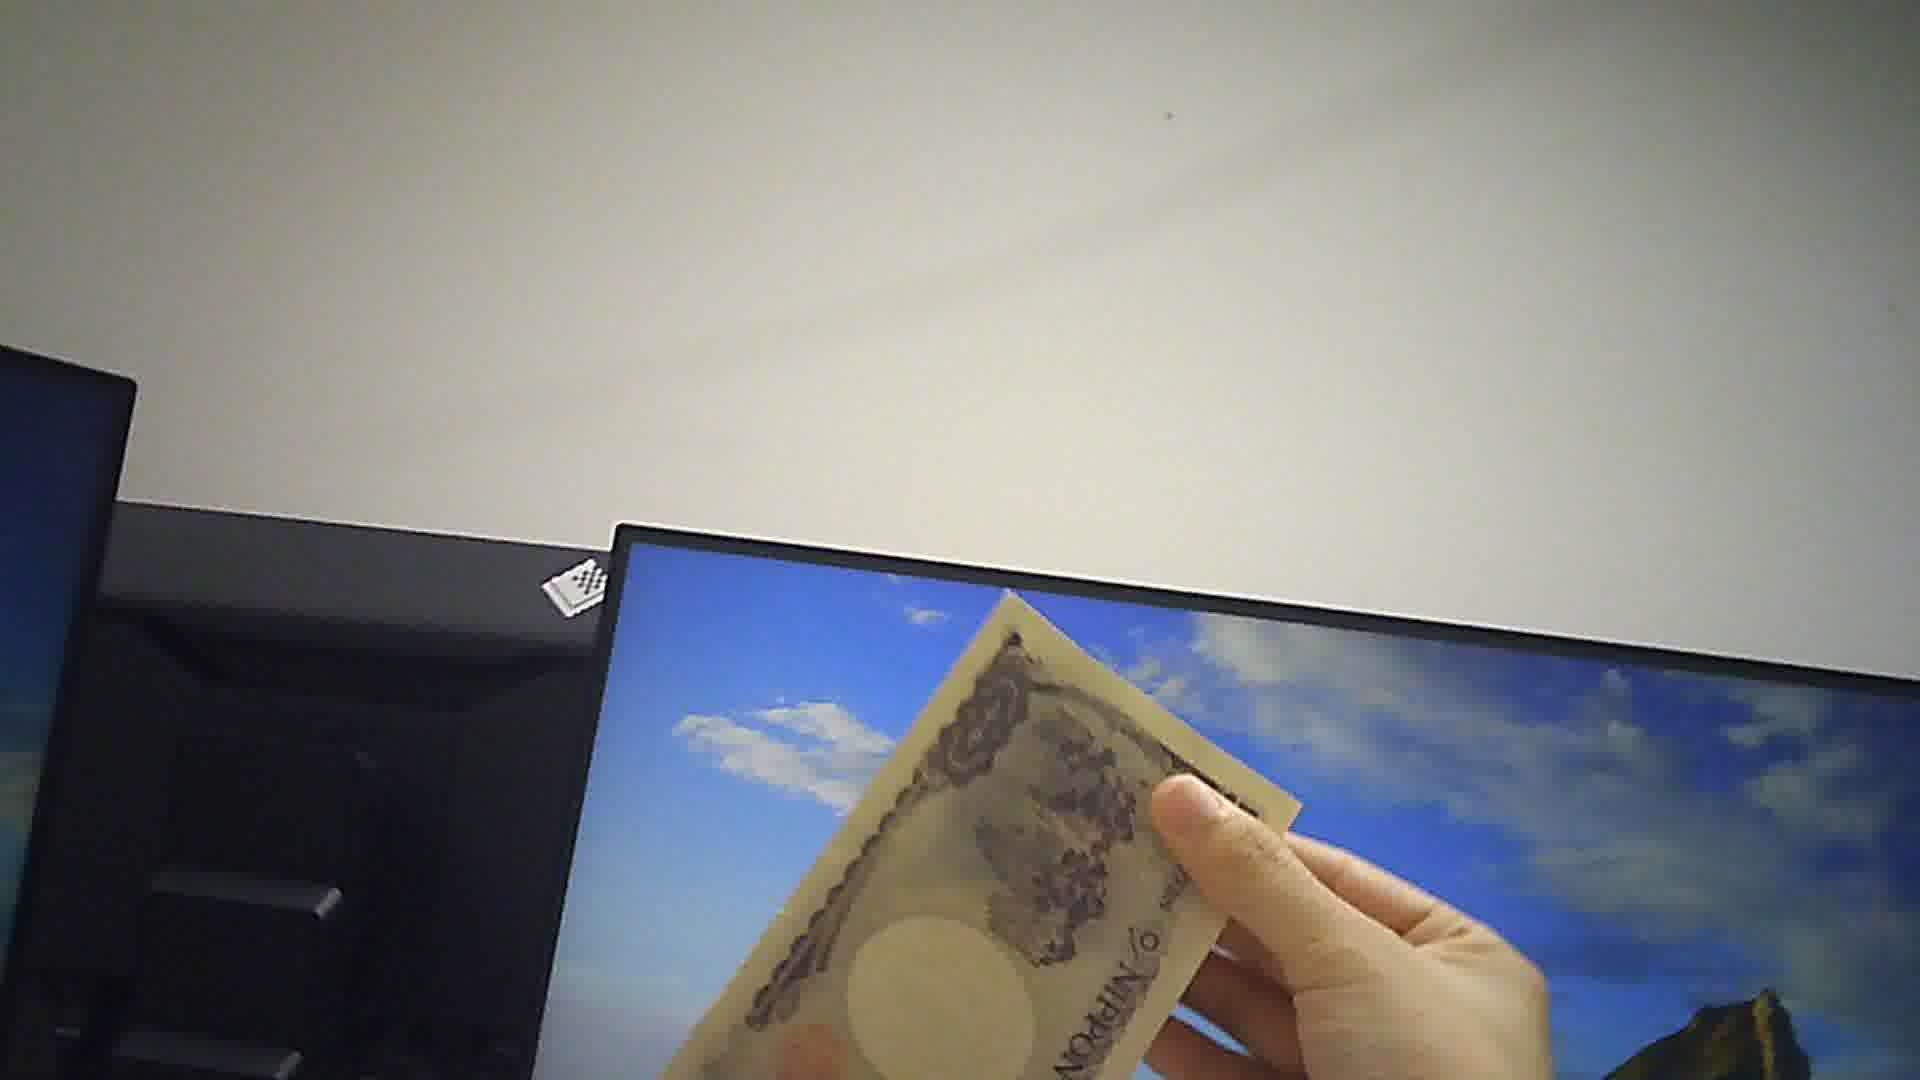5,000 Yen: (618, 587, 1265, 1079)
